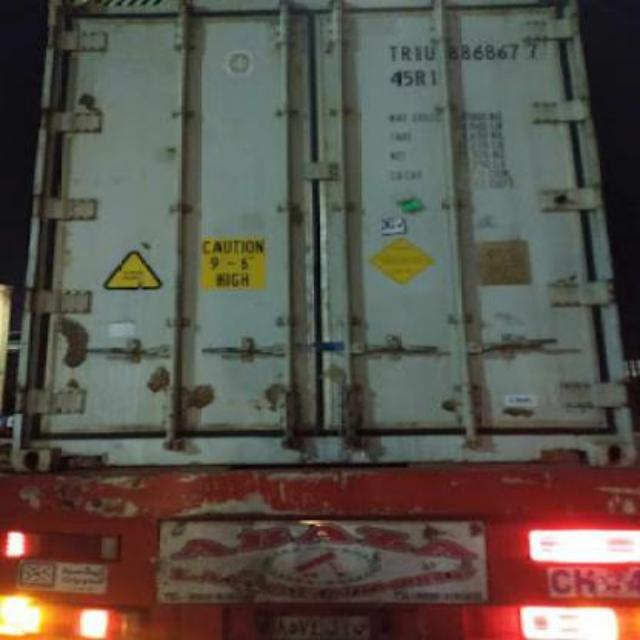6: (471, 44, 484, 60), (496, 44, 509, 60)
7: (526, 42, 538, 58), (510, 44, 520, 60)
8: (460, 43, 476, 63), (446, 44, 459, 60), (484, 44, 496, 60)
I: (412, 44, 424, 64)
R: (398, 45, 416, 65)
T: (388, 42, 400, 62)
U: (424, 45, 436, 63)
